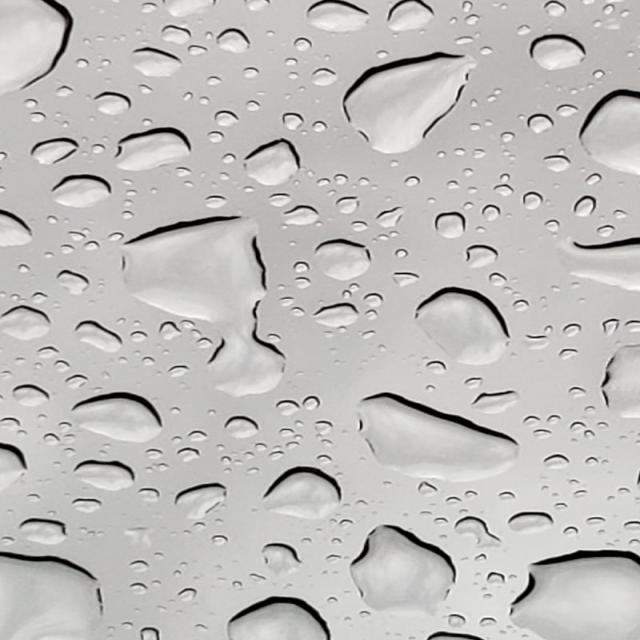raindrop: (122, 218, 285, 396), (358, 392, 518, 481), (343, 54, 477, 154), (510, 551, 640, 640), (350, 526, 453, 612), (0, 555, 102, 639), (417, 288, 508, 365), (0, 0, 72, 93), (580, 90, 640, 174), (73, 392, 162, 442), (228, 598, 330, 640), (263, 468, 342, 519), (117, 128, 190, 171), (602, 345, 640, 418), (245, 140, 300, 186), (202, 24, 264, 64), (315, 239, 370, 281), (464, 384, 526, 418), (82, 84, 136, 122), (308, 0, 370, 32), (530, 35, 585, 71), (52, 175, 110, 208), (73, 460, 133, 491), (175, 484, 227, 519), (0, 306, 50, 340), (10, 380, 58, 414), (52, 264, 95, 300), (455, 516, 502, 548), (372, 200, 417, 233), (75, 321, 122, 352), (278, 200, 328, 229), (387, 0, 433, 31), (132, 49, 182, 77), (380, 262, 431, 288), (207, 102, 250, 132), (65, 493, 114, 519), (0, 445, 27, 491), (274, 104, 310, 138), (20, 519, 67, 545), (32, 138, 78, 164), (262, 544, 300, 574), (158, 21, 200, 48), (302, 61, 342, 89), (313, 304, 358, 328), (0, 214, 32, 247), (550, 96, 590, 122), (535, 153, 576, 178), (508, 512, 554, 534), (537, 447, 574, 474), (522, 108, 553, 140), (154, 318, 188, 347), (117, 552, 158, 576), (480, 562, 510, 592), (130, 482, 164, 508), (328, 193, 364, 217), (34, 342, 70, 366), (170, 581, 203, 606), (307, 417, 342, 440), (583, 222, 623, 242), (170, 445, 206, 467), (60, 374, 96, 396), (516, 186, 544, 214), (435, 212, 465, 238), (200, 192, 239, 212), (294, 389, 327, 412), (201, 528, 232, 552), (424, 355, 452, 381), (225, 416, 258, 438), (561, 522, 591, 546), (467, 245, 498, 268), (554, 344, 586, 366), (162, 356, 192, 379), (415, 474, 441, 500), (598, 316, 625, 341), (355, 291, 390, 310), (559, 317, 590, 338), (0, 412, 25, 438), (479, 200, 503, 227), (139, 444, 171, 464), (201, 128, 233, 147), (189, 428, 217, 449), (492, 182, 521, 202), (521, 330, 550, 350), (272, 398, 300, 418), (538, 0, 569, 18), (49, 81, 78, 100), (488, 266, 514, 287), (20, 110, 50, 128), (580, 510, 610, 528), (126, 580, 156, 598), (447, 608, 470, 631), (527, 424, 556, 442), (239, 62, 265, 82), (564, 380, 590, 400), (574, 196, 597, 218), (41, 428, 65, 449), (496, 129, 521, 149), (80, 235, 105, 255), (66, 224, 88, 246), (284, 258, 314, 274), (127, 327, 151, 347), (471, 141, 490, 166), (398, 171, 424, 189), (564, 420, 590, 438), (57, 240, 80, 260), (617, 514, 640, 534), (282, 306, 312, 321), (200, 72, 228, 88), (474, 614, 502, 630), (463, 118, 487, 136), (510, 296, 535, 313), (308, 116, 329, 135), (520, 412, 544, 428), (102, 228, 127, 243), (291, 272, 314, 288), (332, 170, 350, 190), (217, 150, 239, 166), (474, 44, 496, 60), (513, 22, 538, 36), (454, 32, 479, 46), (446, 180, 467, 196), (20, 95, 42, 110), (460, 14, 482, 28), (88, 142, 107, 158), (544, 411, 564, 424), (462, 162, 478, 176), (278, 295, 298, 306)
